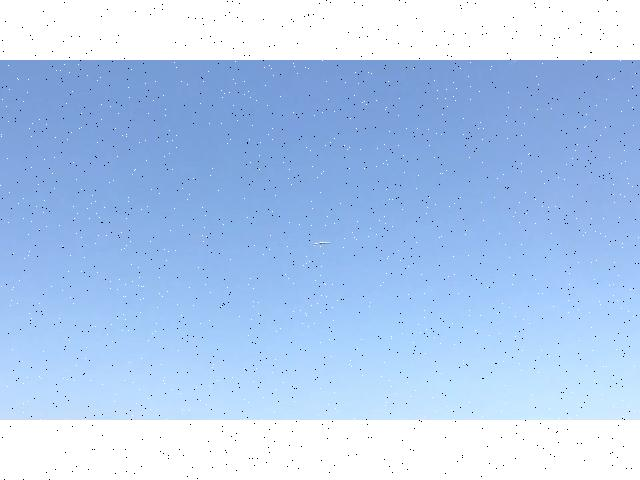Anti-Drone: (310, 230, 334, 258)
